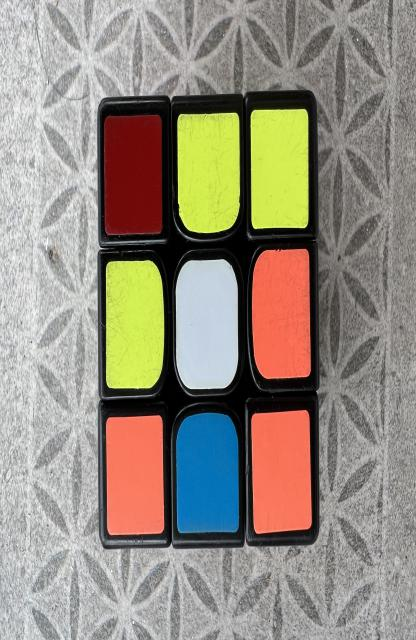Blue: (176, 413, 239, 533)
Orange: (252, 248, 310, 378), (251, 410, 312, 533), (106, 415, 164, 535)
Red: (104, 115, 162, 235)
White: (176, 258, 238, 390)
Yellow: (177, 113, 240, 233), (106, 260, 164, 388), (250, 108, 309, 228)
